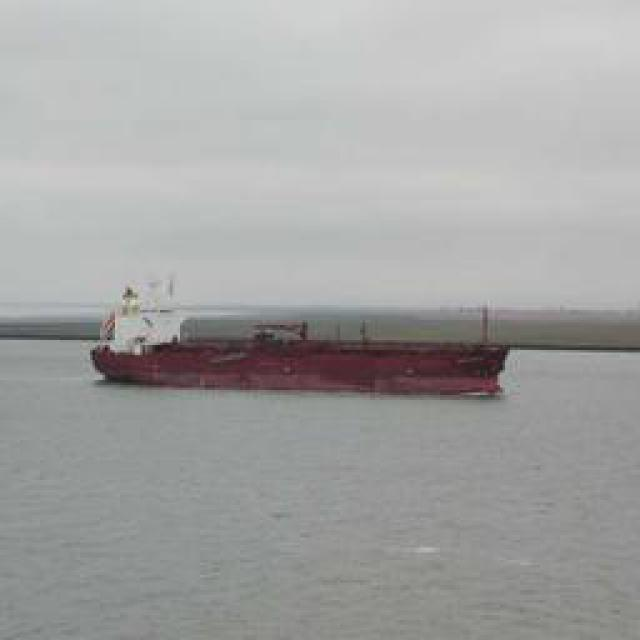Ship: (95, 315, 508, 398)
